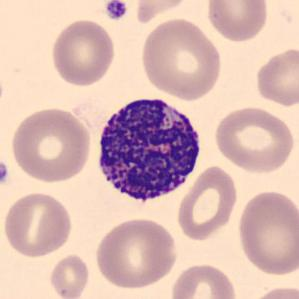Basophil: (90, 89, 207, 213)
Platelets: (103, 0, 129, 21), (0, 159, 10, 187)
RBC: (138, 16, 225, 102), (7, 106, 94, 184), (93, 215, 180, 291), (212, 103, 296, 175), (235, 187, 298, 278), (175, 163, 240, 242), (2, 189, 75, 258), (48, 17, 117, 89), (252, 45, 299, 109), (204, 0, 270, 43), (168, 261, 239, 299), (47, 252, 91, 299), (132, 0, 194, 26), (246, 284, 299, 299)
